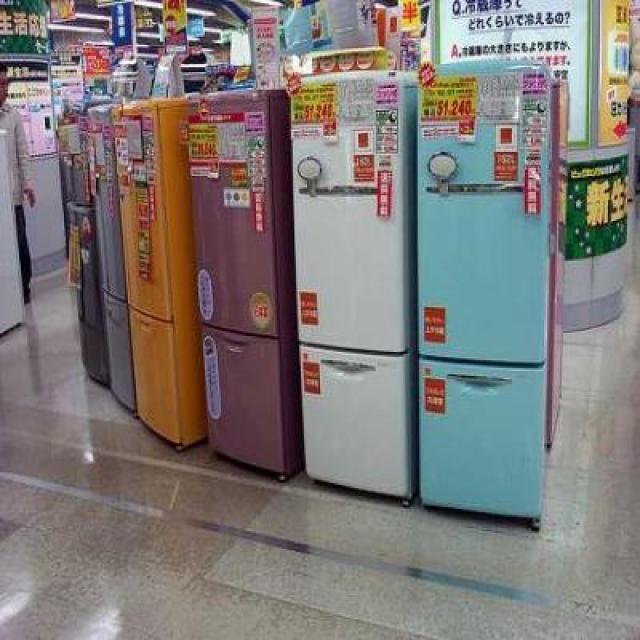refrigerator: (416, 61, 542, 520), (288, 70, 406, 498), (194, 87, 278, 466), (113, 102, 185, 446), (87, 103, 137, 410), (62, 100, 106, 382)
